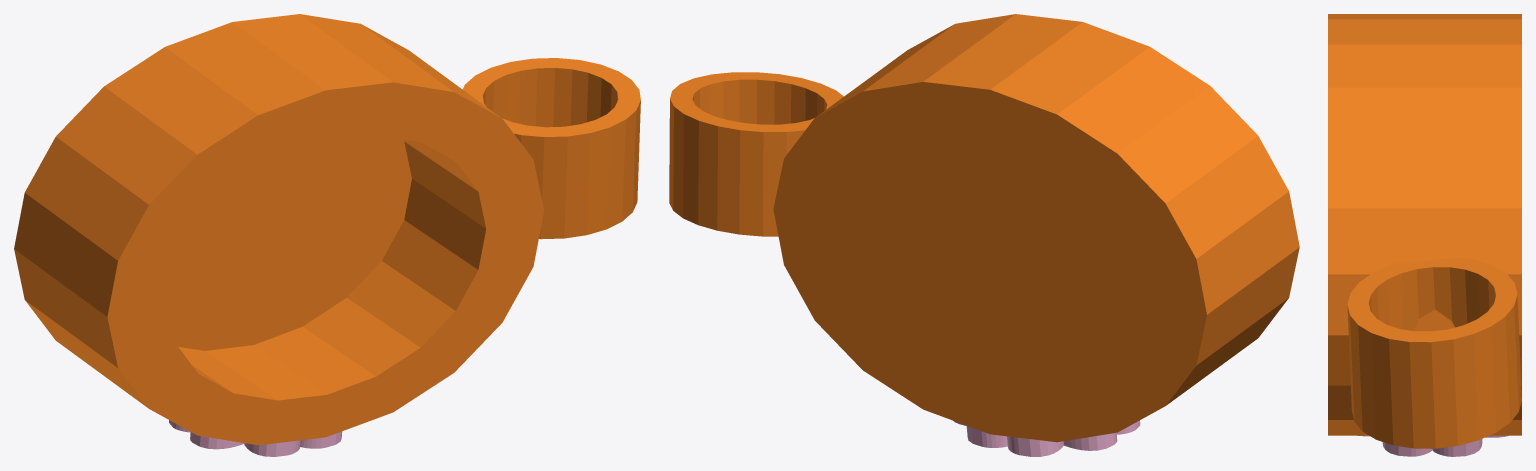
File: tinker.obj
3 views of the same model, side by side, from view 1: azimuth 30°, elevation 25°; view 2: azimuth 150°, elevation 25°; view 3: azimuth 270°, elevation 25° (orthographic). The views are drawn at different scales.
Parts seen in each view (by area): view 1: group_0_16089887, group_0_15708628; view 2: group_0_16089887, group_0_15708628; view 3: group_0_16089887, group_0_15708628.
Boxes of the visible parts, x1,y1,x2,y2 form: group_0_16089887: (14,14,640,445); group_0_15708628: (169,420,342,456); group_0_16089887: (669,14,1299,442); group_0_15708628: (953,420,1140,456); group_0_16089887: (1328,14,1521,448); group_0_15708628: (1358,435,1508,456).
Bounding box in the file's own units: 71 × 43 × 20.
